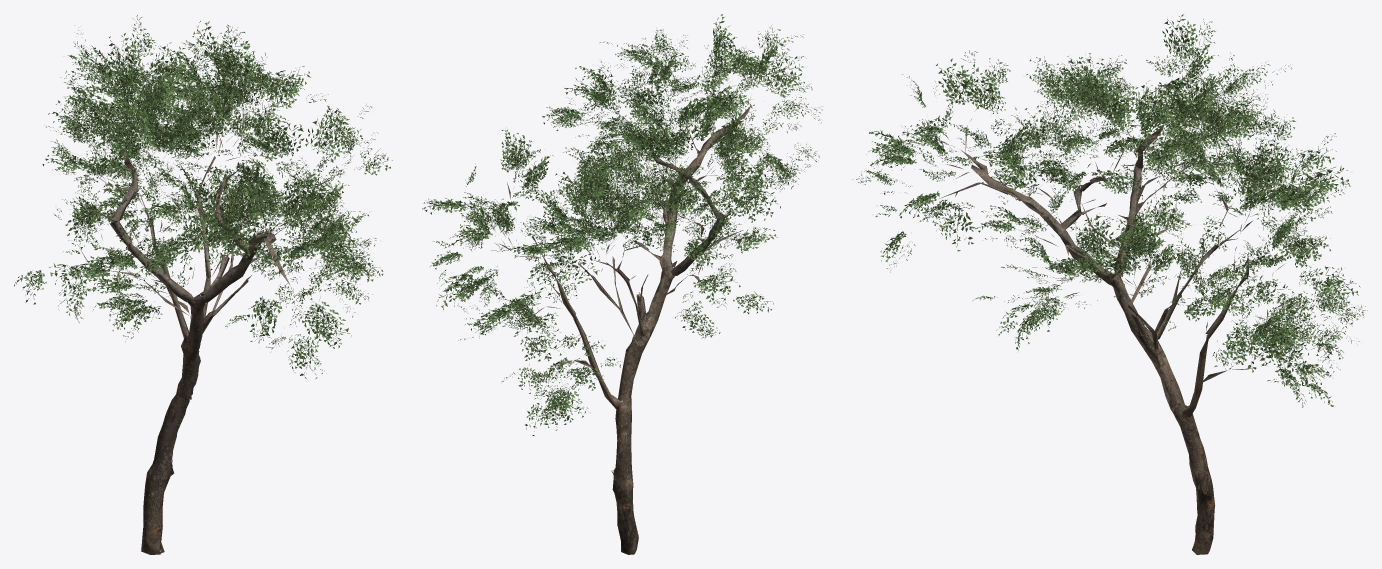
Rendered from tree_small_02.glb.
The picture shows the model from 3 angles, left to right: view 1: azimuth 30°, elevation 25°; view 2: azimuth 150°, elevation 25°; view 3: azimuth 270°, elevation 25°; orthographic projection. The views are drawn at different scales.
Parts seen in each view (by area): view 1: tree_small_02_LOD0; view 2: tree_small_02_LOD0; view 3: tree_small_02_LOD0.
Part boxes in pixels (x1,y1,x2,y2): tree_small_02_LOD0: [14, 15, 392, 554]; tree_small_02_LOD0: [422, 14, 822, 554]; tree_small_02_LOD0: [852, 14, 1367, 554].
Size of the model in its own units: 2.89 by 4.56 by 4.27.
Materials: 3 (3 with a texture image).
